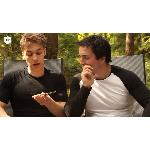Pisau: (24, 85, 60, 107)
